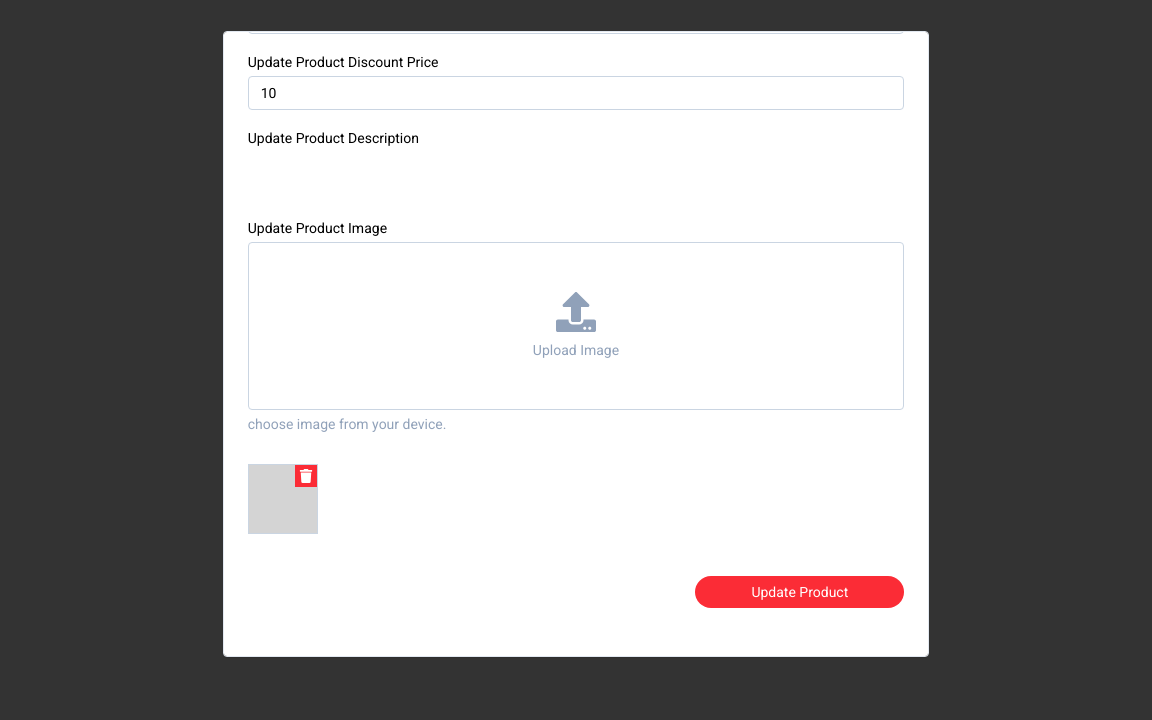
Test case: UpdateProduct Component with Cloudinary › shows loading spinner while submitting
(page scrolled)
Click the button "Update Product" at point(800, 592), box [695, 576, 904, 608]
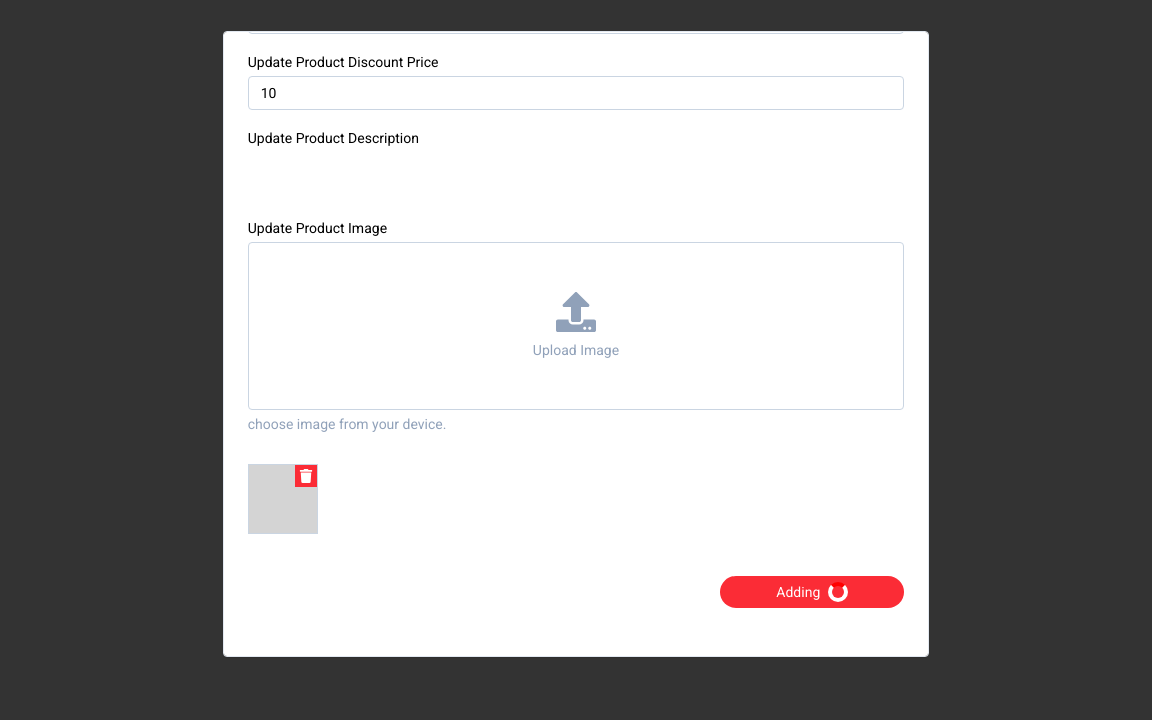
Now the text "Adding" is shown, box [776, 582, 820, 602]
Now the element with test id "loading-spinner" is shown, box [776, 582, 848, 602]
